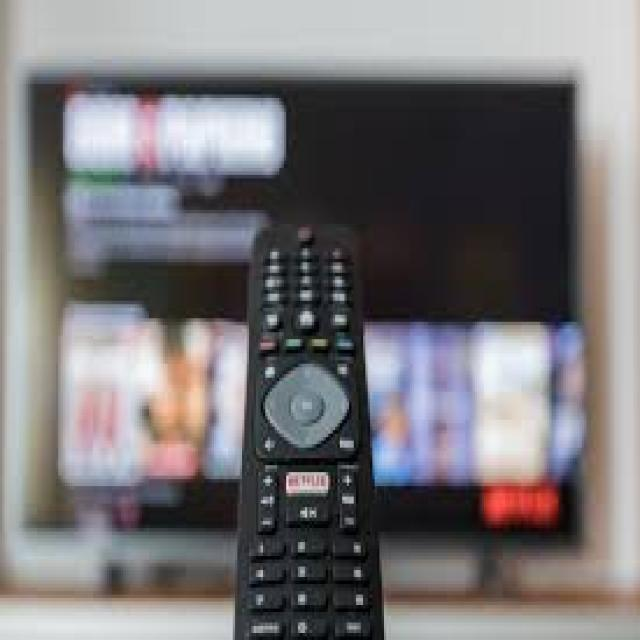remote: (236, 225, 383, 637)
